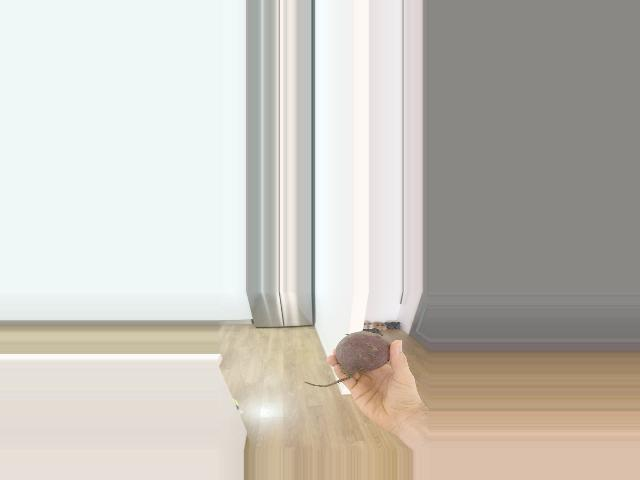beet: (303, 328, 389, 387)
